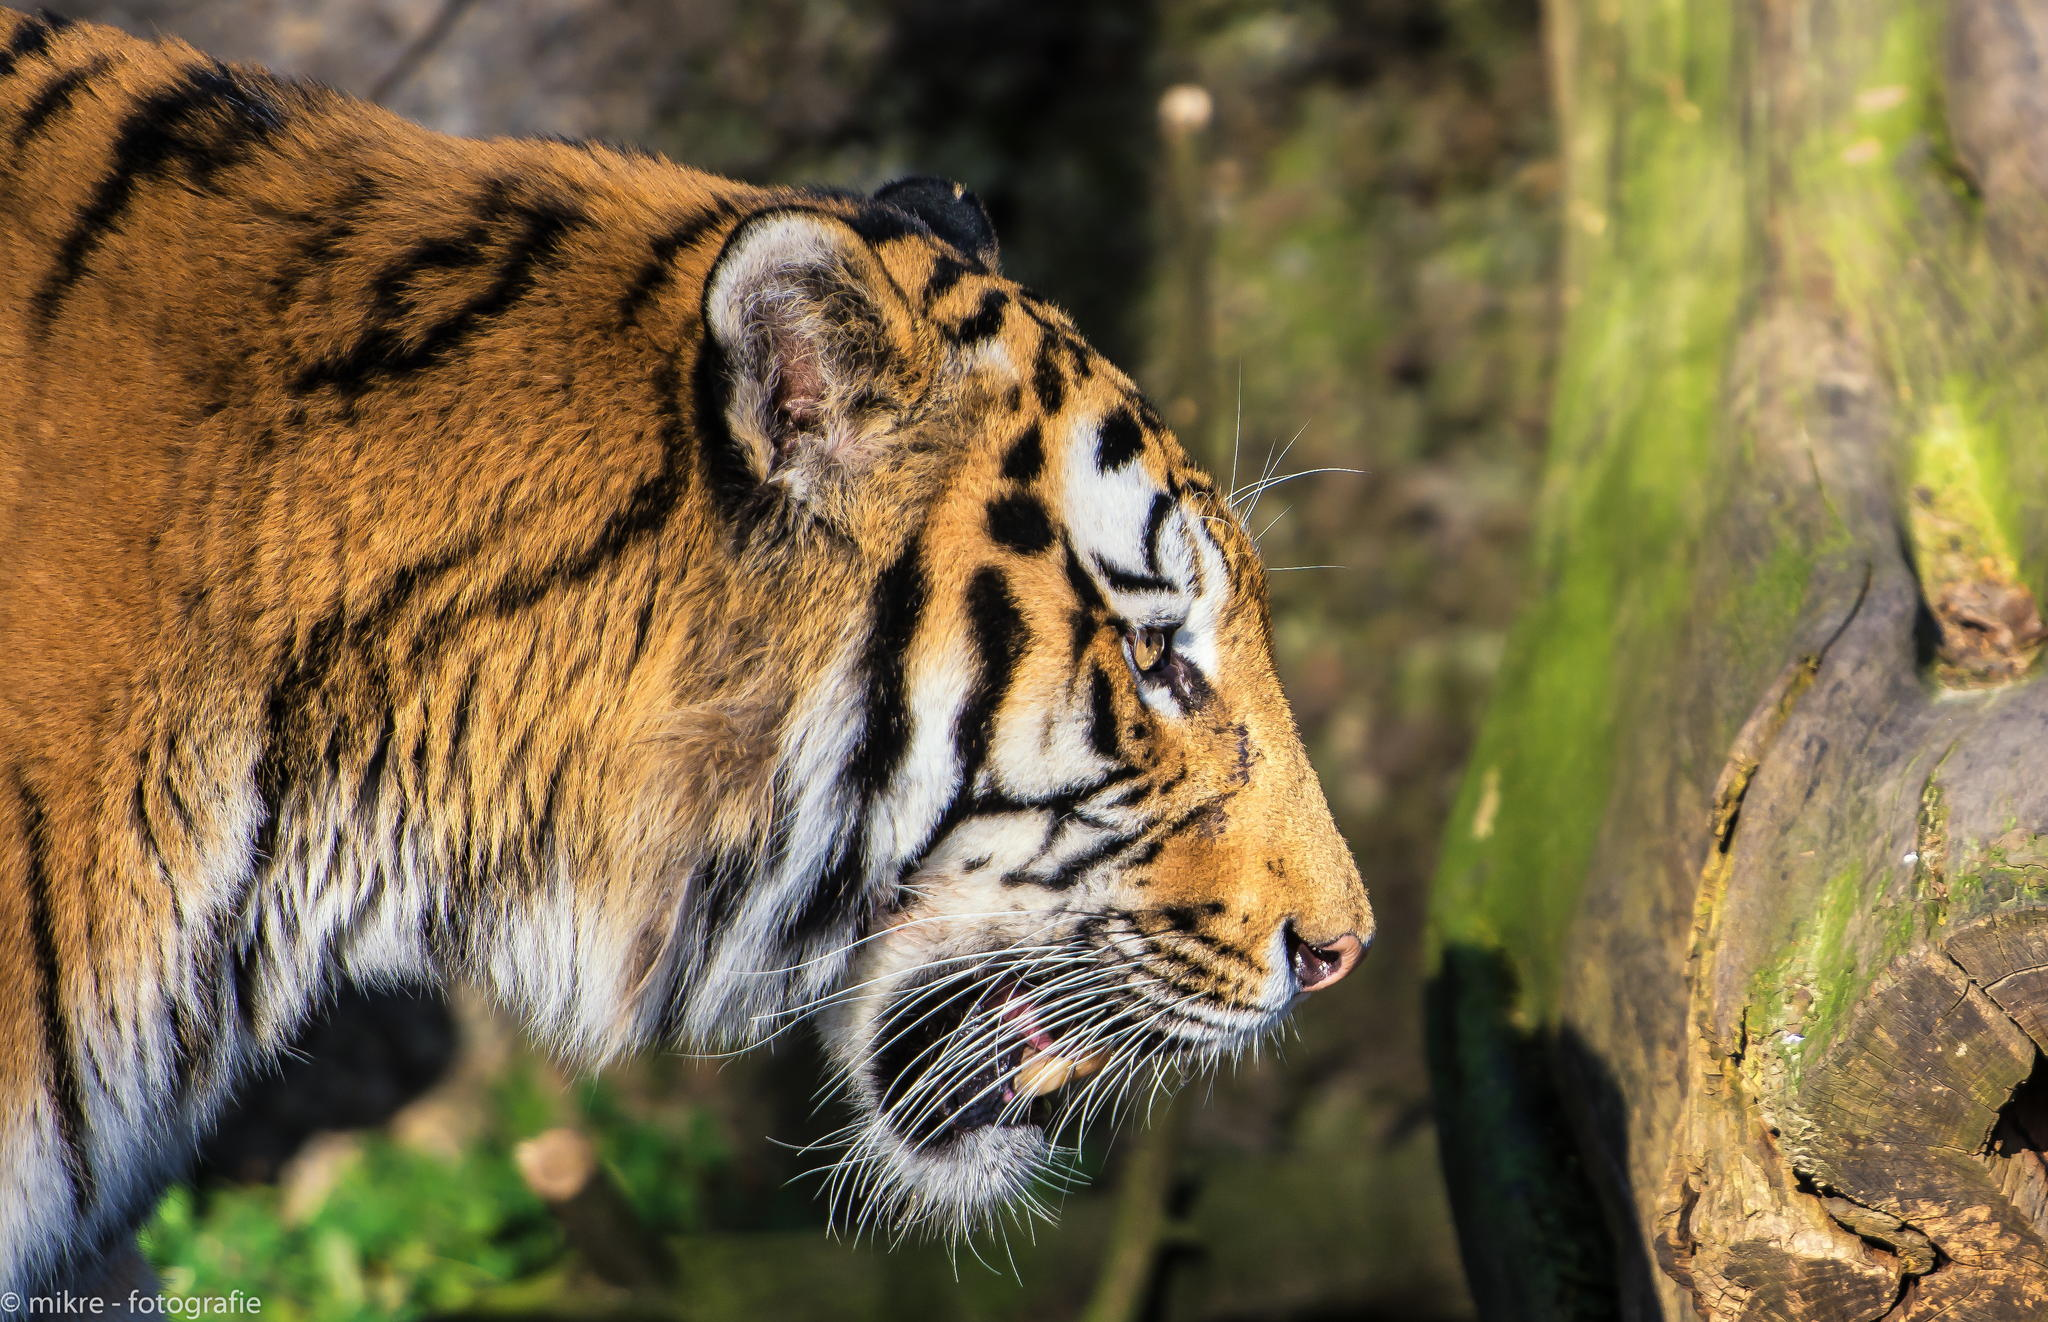tiger: (37, 40, 1396, 1243)
